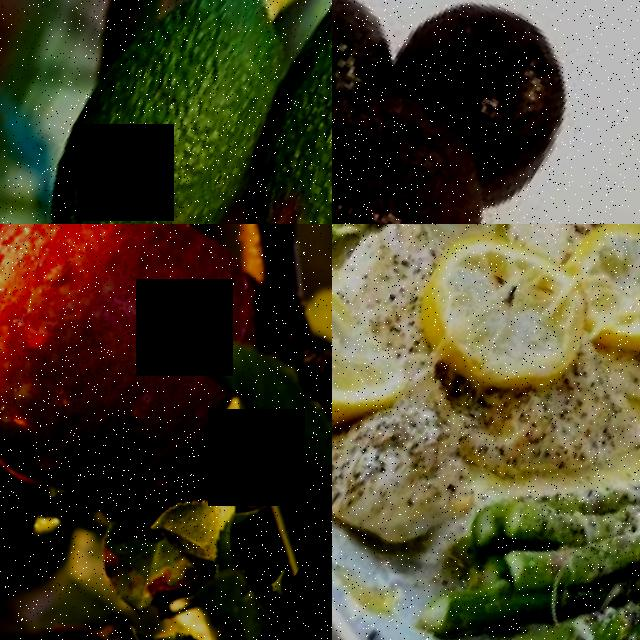apple: (0, 224, 315, 558)
avocado: (0, 0, 332, 224), (339, 0, 638, 224), (332, 71, 537, 224), (208, 0, 332, 224)
